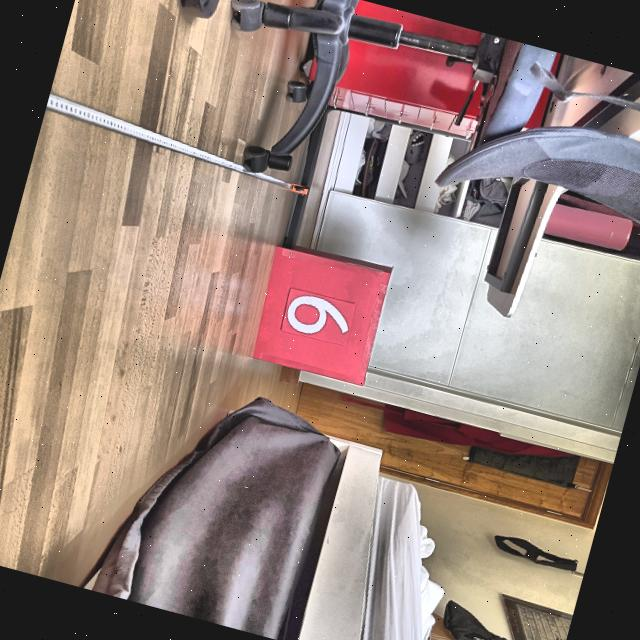red box: (245, 236, 401, 390)
six: (282, 288, 357, 345)
